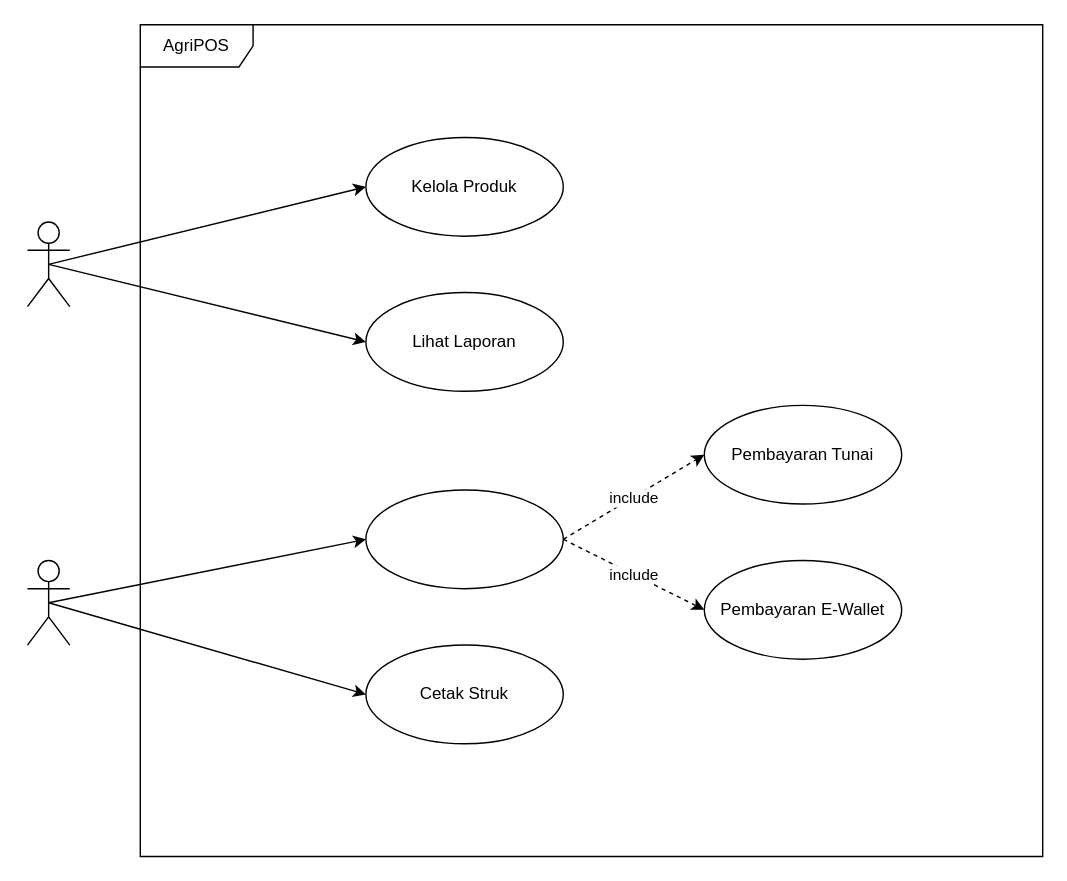
Image size: 1067x881. Some labels were removed from this diagram. Each missing label, with the centre of its shape:
"Admin" goes at point 48,264.
"Checkout" goes at point 463,539.
"Kasir" goes at point 48,602.
